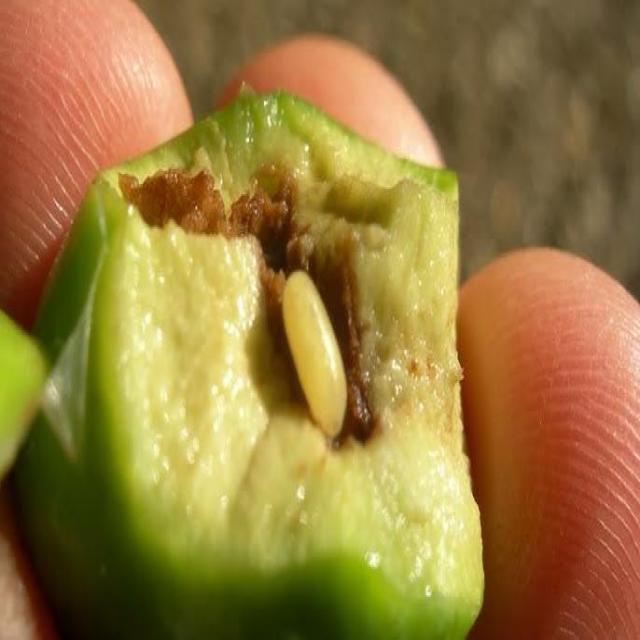Anthracnose: (15, 94, 481, 638)
